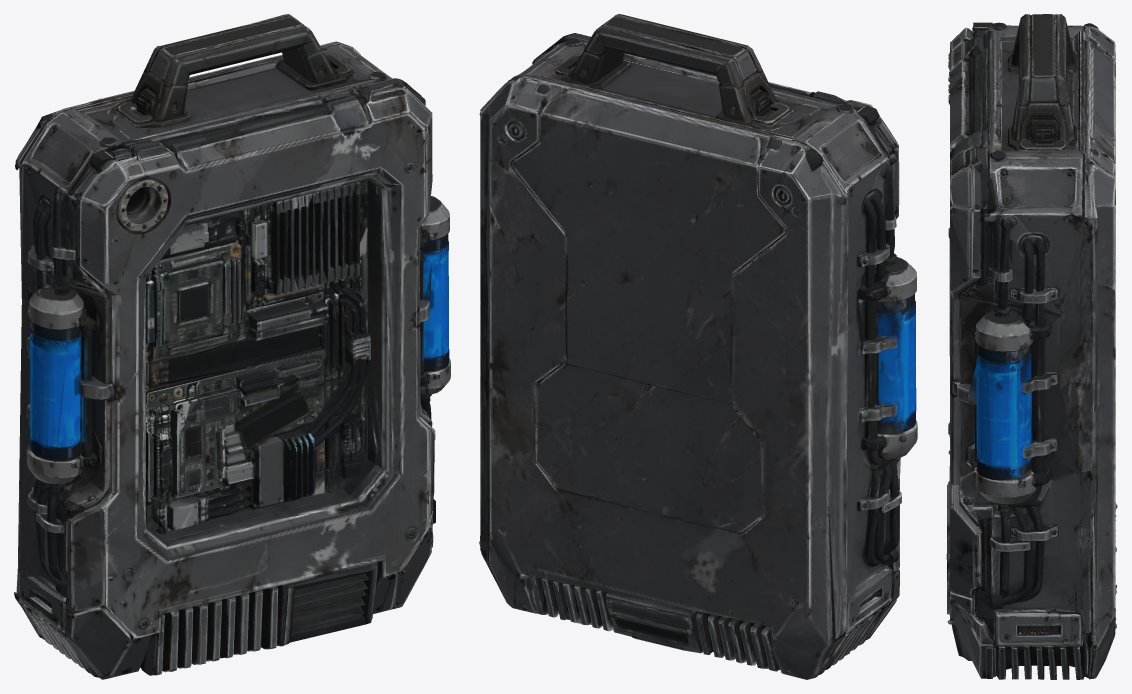
File: pack_operator_headband.glb
3 renders of one model, left to right at view 1: azimuth 30°, elevation 25°; view 2: azimuth 150°, elevation 25°; view 3: azimuth 270°, elevation 25°, orthographic. The views are drawn at different scales.
Bounding box in the file's own units: 1.42 × 1.9 × 0.5165.
Materials: 1 (1 with a texture image).
